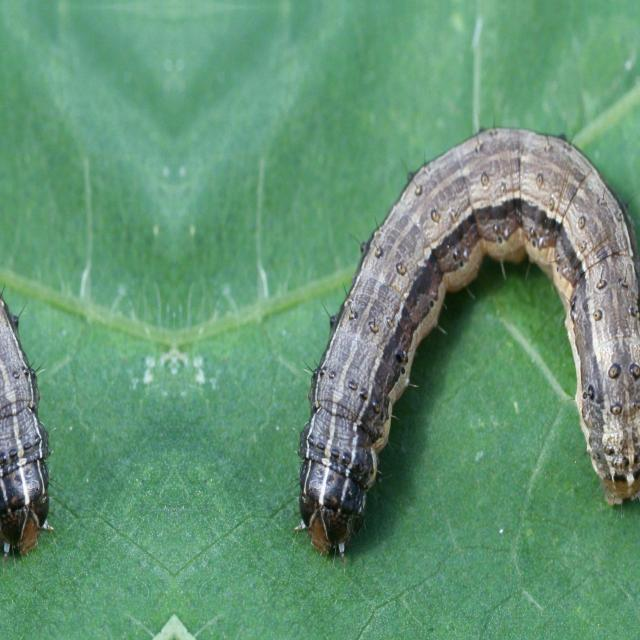armyworm: (293, 124, 639, 564), (0, 284, 55, 562)
